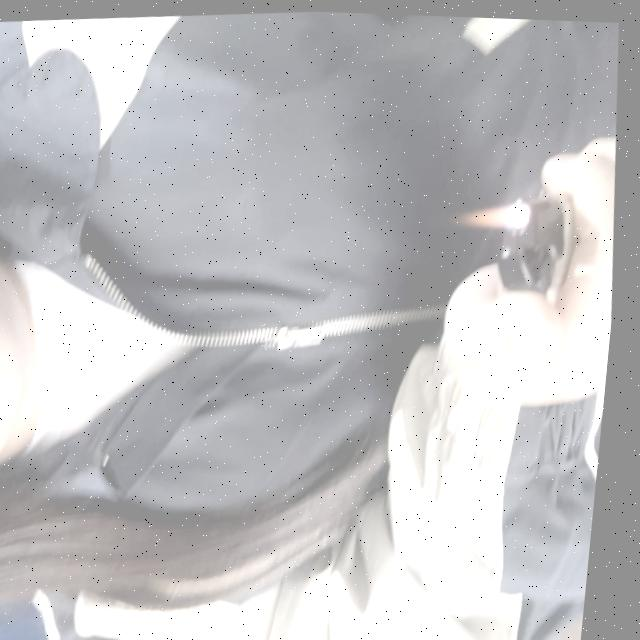Fire: (455, 194, 533, 229)
